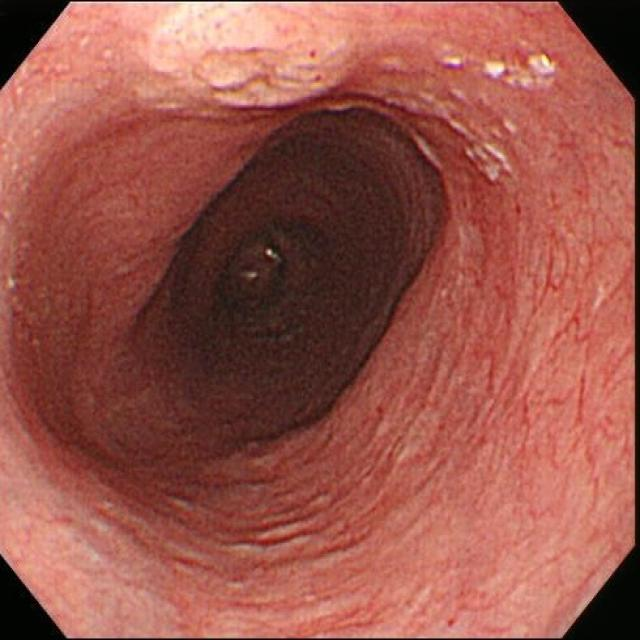B: (134, 3, 380, 109)
E: (213, 177, 366, 371)
J: (446, 118, 517, 186), (486, 51, 558, 92)
